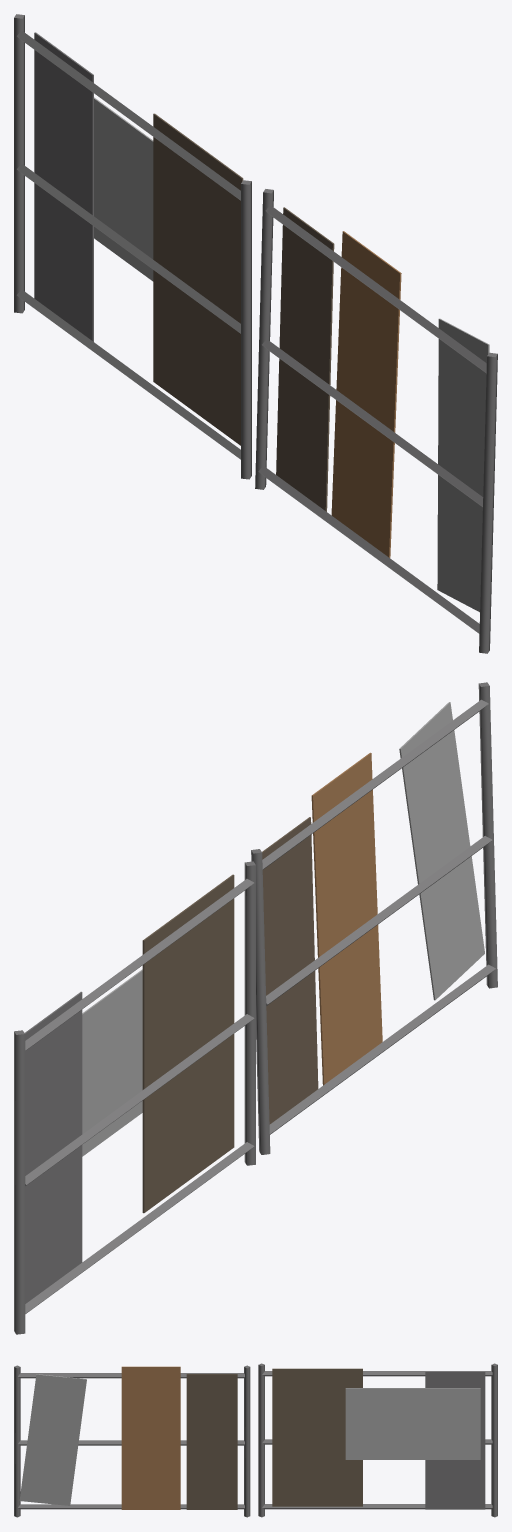
The model's file is SM_fence_107b.gltf.
The picture shows the model from 3 angles, top to bottom: view 1: azimuth 30°, elevation 25°; view 2: azimuth 150°, elevation 25°; view 3: azimuth 270°, elevation 25°; orthographic projection. The views are drawn at different scales.
Visible parts, largest first — view 1: SM_fence_107b; view 2: SM_fence_107b; view 3: SM_fence_107b.
Part boxes in pixels (x1,y1,x2,y2): SM_fence_107b: (14,14,497,653); SM_fence_107b: (14,682,497,1334); SM_fence_107b: (14,1363,497,1517).
Size of the model in its own units: 0.2138 by 2.08 by 5.94.
1 material, 1 textured.
